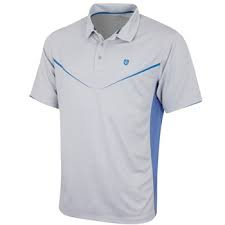C_polo shirt: (31, 8, 198, 225)
